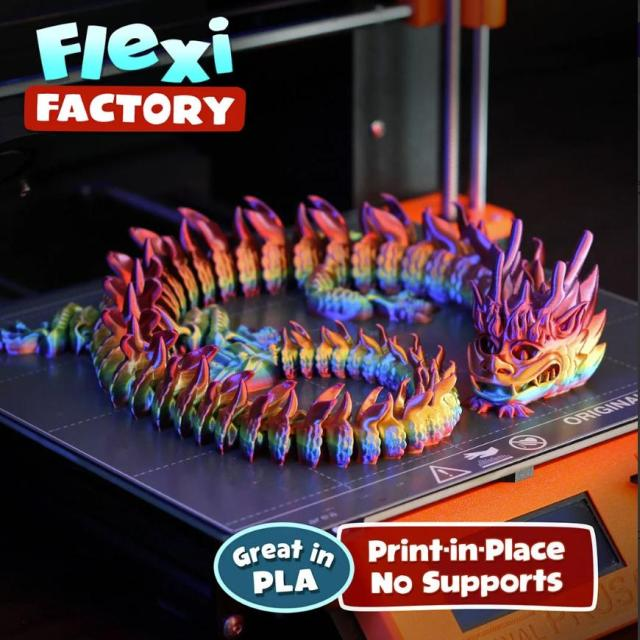Without deffect: (94, 180, 615, 465)
